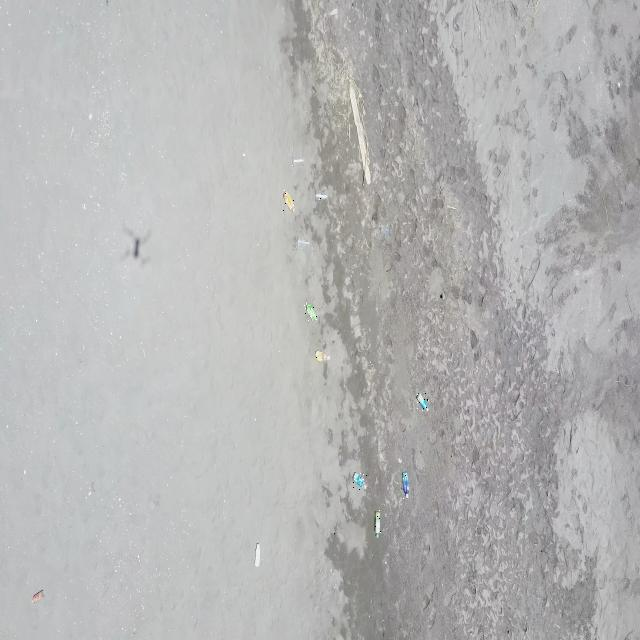plastic-bottle: (282, 189, 295, 214), (304, 300, 318, 322), (352, 472, 367, 491), (417, 392, 429, 412), (402, 472, 410, 499), (316, 349, 330, 363), (254, 542, 261, 568), (375, 510, 381, 538)
takeaway-cup: (292, 154, 304, 167), (296, 237, 309, 248), (316, 191, 328, 202)
